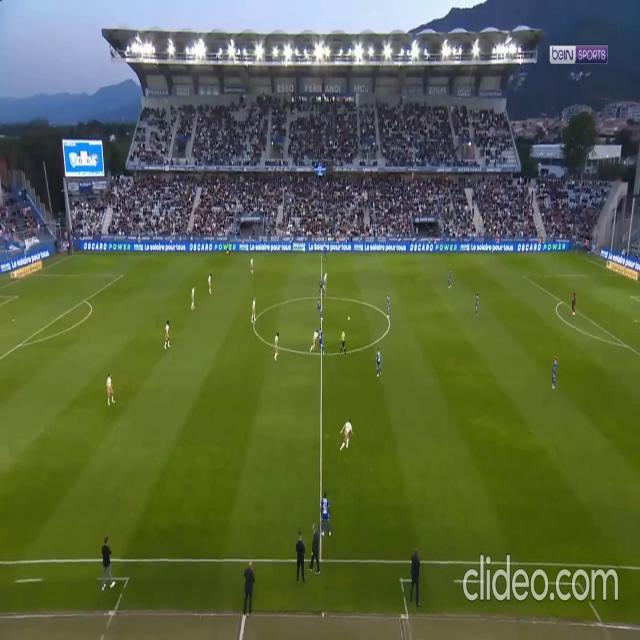ball: (347, 315, 350, 321)
player: (309, 520, 321, 572), (321, 490, 331, 540), (339, 418, 353, 452), (107, 372, 115, 406), (551, 355, 558, 390), (164, 320, 171, 348), (310, 328, 318, 352), (376, 348, 381, 377), (274, 331, 279, 359), (474, 292, 479, 318), (386, 293, 391, 315), (317, 298, 322, 319), (572, 290, 576, 316), (320, 276, 325, 296), (191, 285, 195, 309), (208, 273, 212, 294), (252, 297, 256, 318), (448, 268, 452, 288), (250, 256, 254, 274), (324, 272, 328, 290), (322, 244, 326, 260)
referee: (308, 518, 322, 575), (309, 328, 319, 355), (339, 328, 347, 354), (225, 240, 230, 256)
